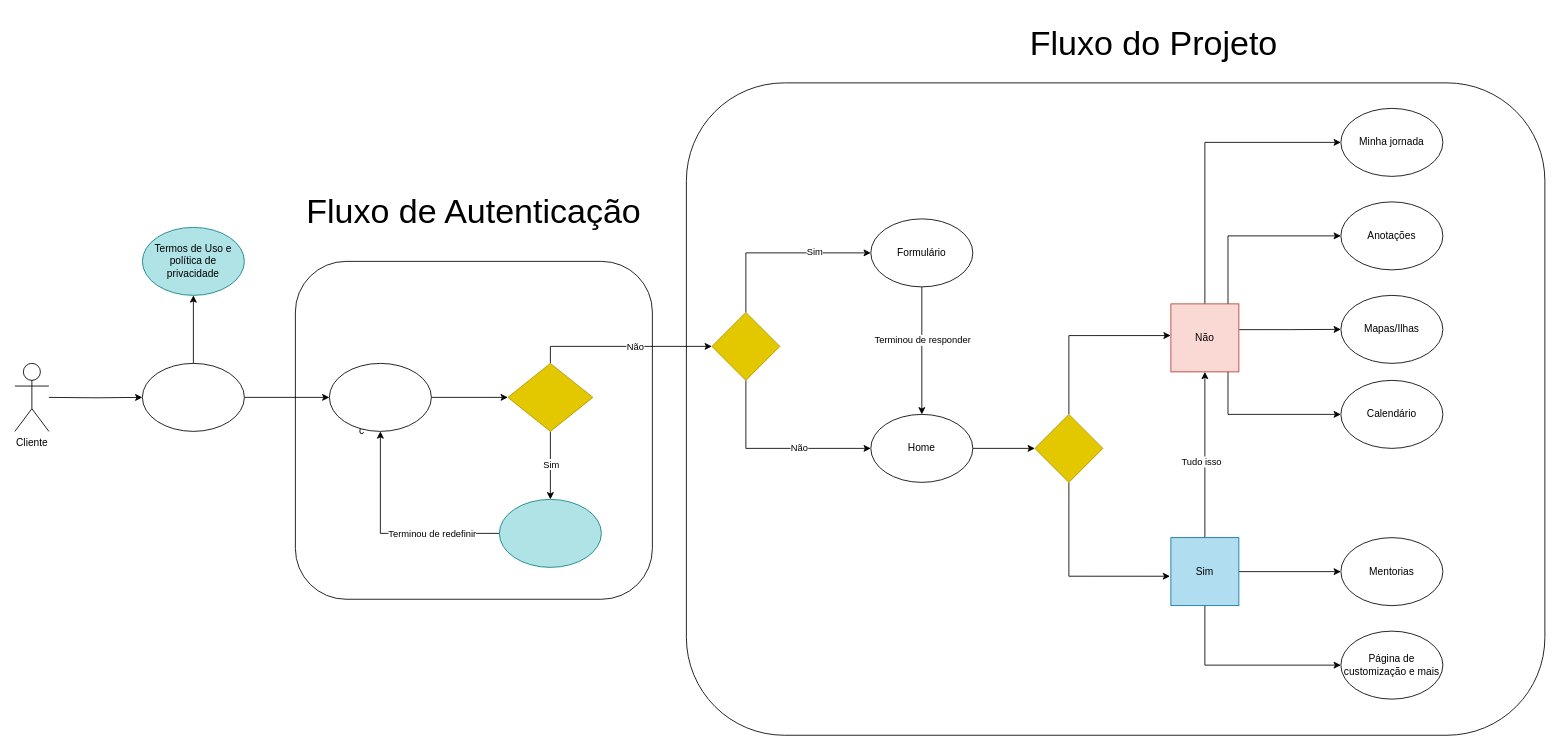
Some shapes in this 1560 by 750 pixel diagram are drawn without their labels. Each missing label, with the centre of its shape:
"Esqueceu a senha?" belongs at [550,397].
"Landing Page" belongs at [193,397].
"Login/Cadastro" belongs at [380,397].
"Primeira Vez?" belongs at [745,346].
"Redefinir senha por e-mail" belongs at [550,533].
"Usuário Premium?" belongs at [1068,448].
